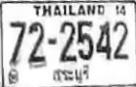2: (27, 21, 46, 61), (58, 20, 76, 62), (112, 20, 128, 59)
4: (95, 20, 110, 59)
5: (77, 20, 93, 59)
7: (8, 20, 26, 64)
SRI: (49, 64, 93, 82)
